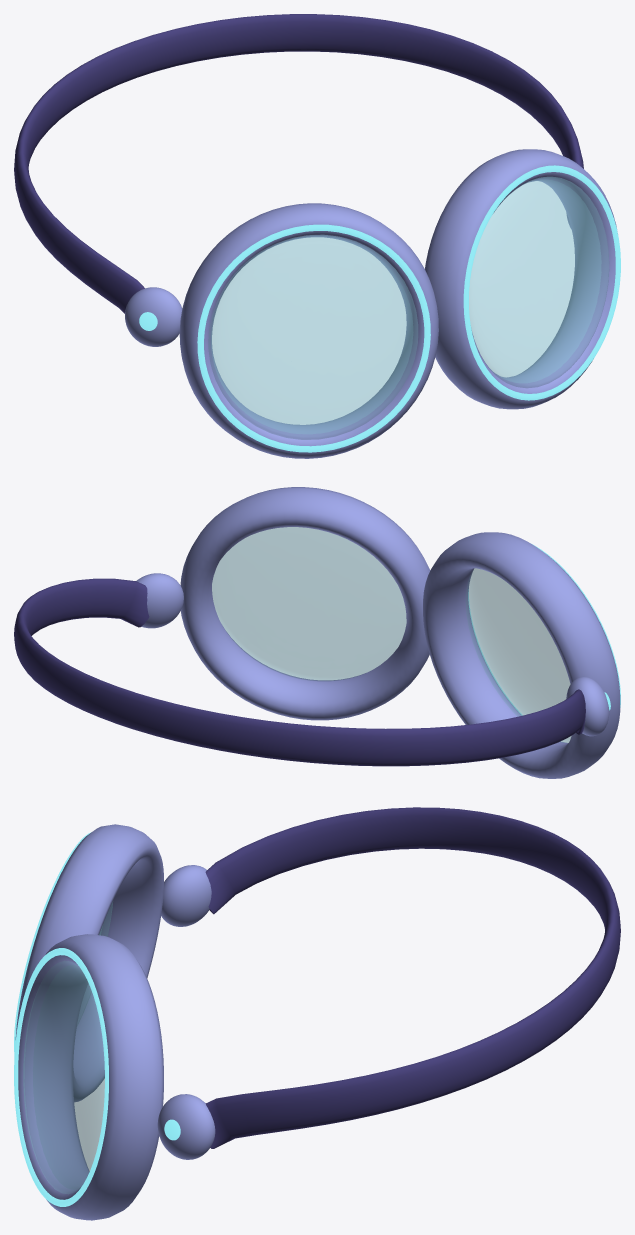
Rendered from echo-goggles.glb.
The picture shows the model from 3 angles, top to bottom: view 1: azimuth 30°, elevation 25°; view 2: azimuth 150°, elevation 25°; view 3: azimuth 270°, elevation 25°; orthographic projection. The views are drawn at different scales.
Visible parts, largest first — view 1: Goggles, GoggleLenses; view 2: Goggles, GoggleLenses; view 3: Goggles, GoggleLenses.
Part boxes in pixels (x1,y1,x2,y2): Goggles: (14, 14, 620, 458); GoggleLenses: (208, 177, 609, 439); Goggles: (14, 487, 620, 778); GoggleLenses: (212, 527, 571, 742); Goggles: (14, 807, 620, 1220); GoggleLenses: (23, 902, 112, 1193).
Size of the model in its own units: 0.9702 by 0.4276 by 0.9149.
